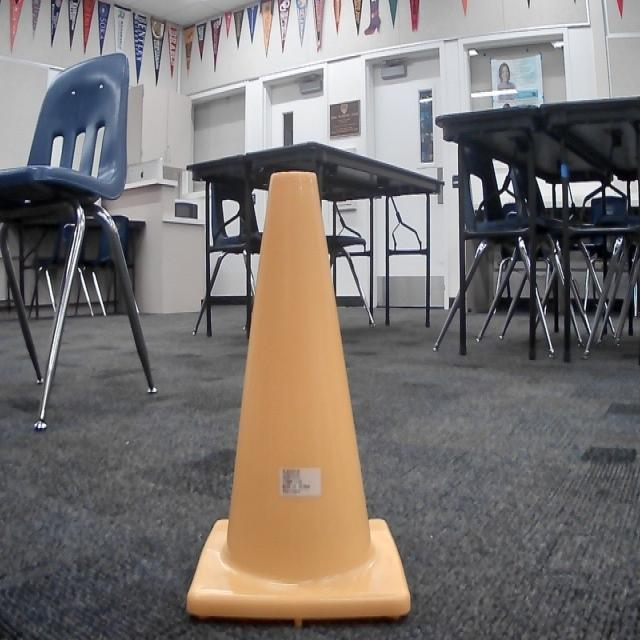cone: (184, 166, 412, 623)
